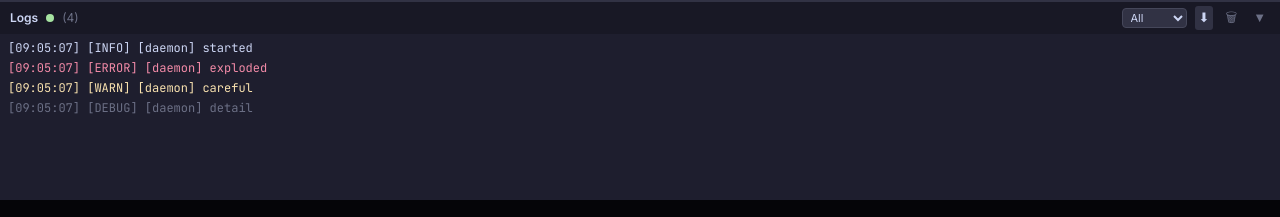
Test: LogPanel › filters by level
Select "Error" in the dropdown with class "level-filter": (1154, 18) [1122, 8, 1186, 28]
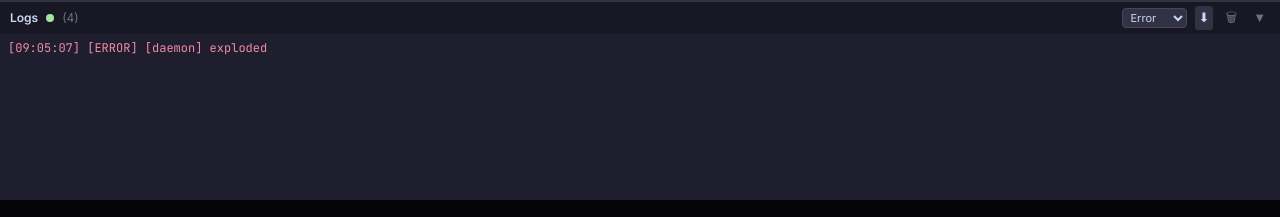
Now the elements with class "log-entry" read "[09:05:07] [ERROR] [daemon] exploded", in this order, box [8, 40, 267, 56]
